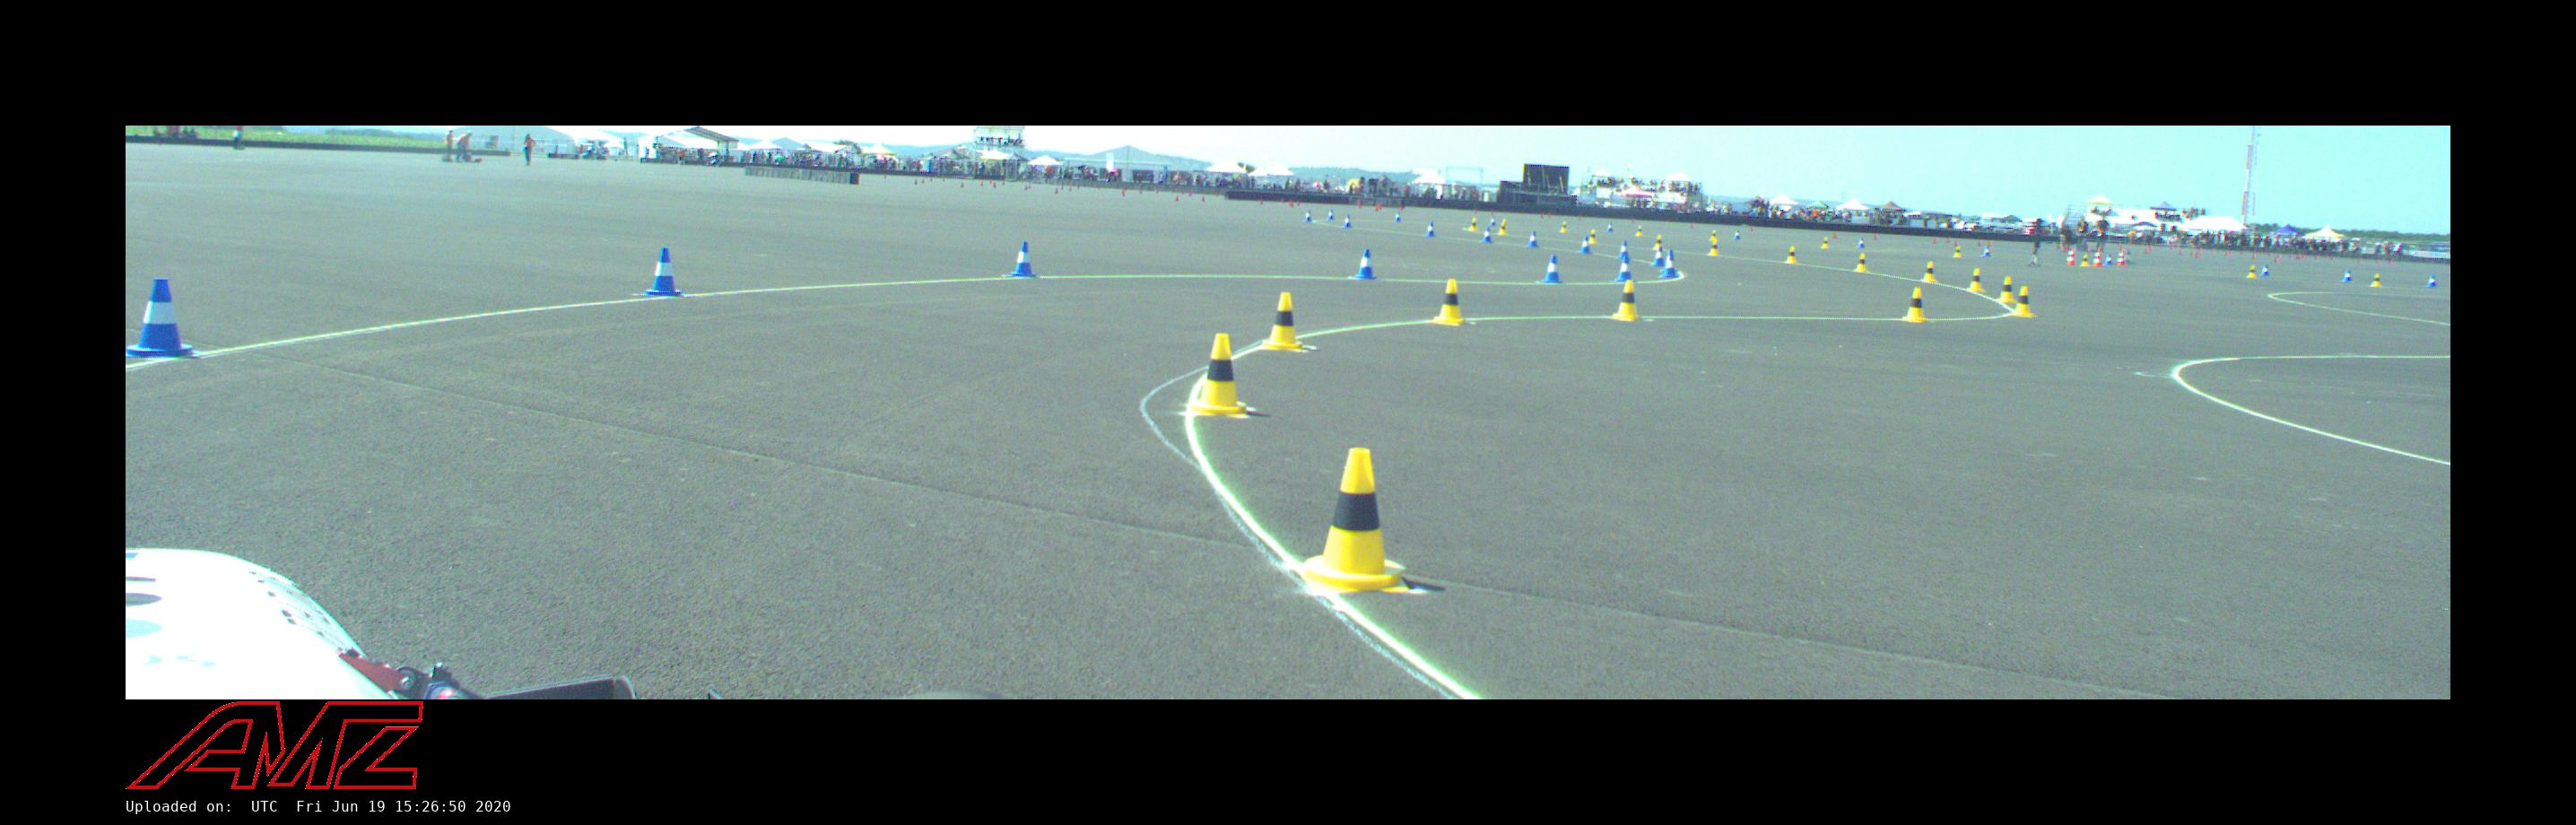blue_cone: (128, 278, 197, 358), (644, 248, 682, 297), (1007, 242, 1037, 278), (1352, 248, 1377, 279), (1543, 255, 1562, 283), (1661, 253, 1679, 278), (1615, 256, 1631, 281), (1663, 250, 1679, 271), (1617, 242, 1631, 260), (1651, 247, 1664, 266), (1579, 237, 1592, 253), (1480, 227, 1493, 243), (1528, 232, 1538, 248), (2341, 270, 2353, 283), (1426, 222, 1436, 237), (1344, 214, 1352, 228), (2105, 253, 2113, 266), (2261, 265, 2269, 276), (2428, 276, 2436, 288), (1983, 247, 1991, 258), (1856, 237, 1865, 248), (1733, 230, 1741, 240), (1488, 217, 1497, 227), (1304, 210, 1311, 222), (1395, 212, 1401, 222), (1607, 222, 1613, 232), (1329, 209, 1334, 220)
large_orange_cone: (2067, 247, 2075, 266), (2093, 248, 2101, 268), (2116, 248, 2124, 266)
yellow_cone: (1299, 447, 1411, 592), (1188, 334, 1249, 417), (1263, 293, 1303, 350), (1429, 279, 1465, 324), (1610, 281, 1641, 320), (1901, 288, 1929, 322), (2012, 286, 2034, 317), (1996, 276, 2016, 302), (1968, 268, 1985, 291), (1921, 261, 1937, 283), (1855, 253, 1868, 271), (1784, 247, 1797, 263), (1709, 240, 1720, 256), (2371, 273, 2382, 288), (1654, 233, 1663, 250), (2080, 255, 2090, 266), (1469, 219, 1477, 232), (1589, 230, 1597, 243), (1820, 237, 1828, 250), (1953, 247, 1962, 258), (1559, 222, 1567, 233), (2247, 266, 2256, 278), (1635, 227, 1643, 237), (1500, 224, 1506, 235), (1500, 219, 1506, 230), (1710, 230, 1717, 240)
